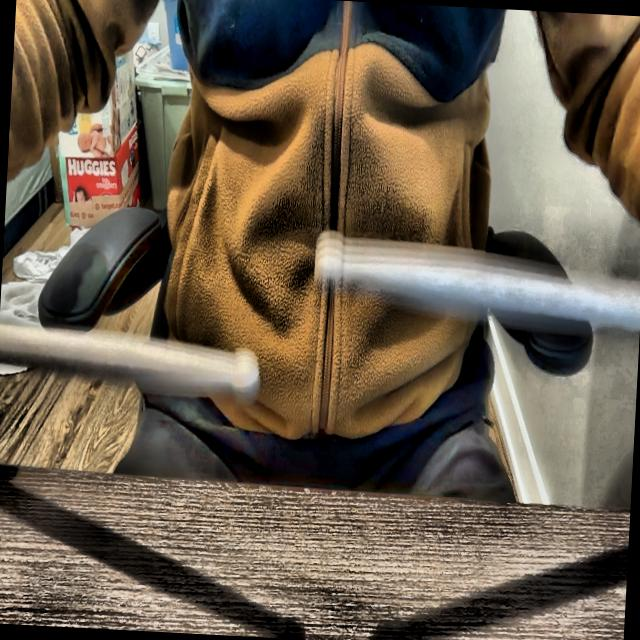Drumstick-Heads: (310, 222, 349, 298), (228, 329, 264, 409)
